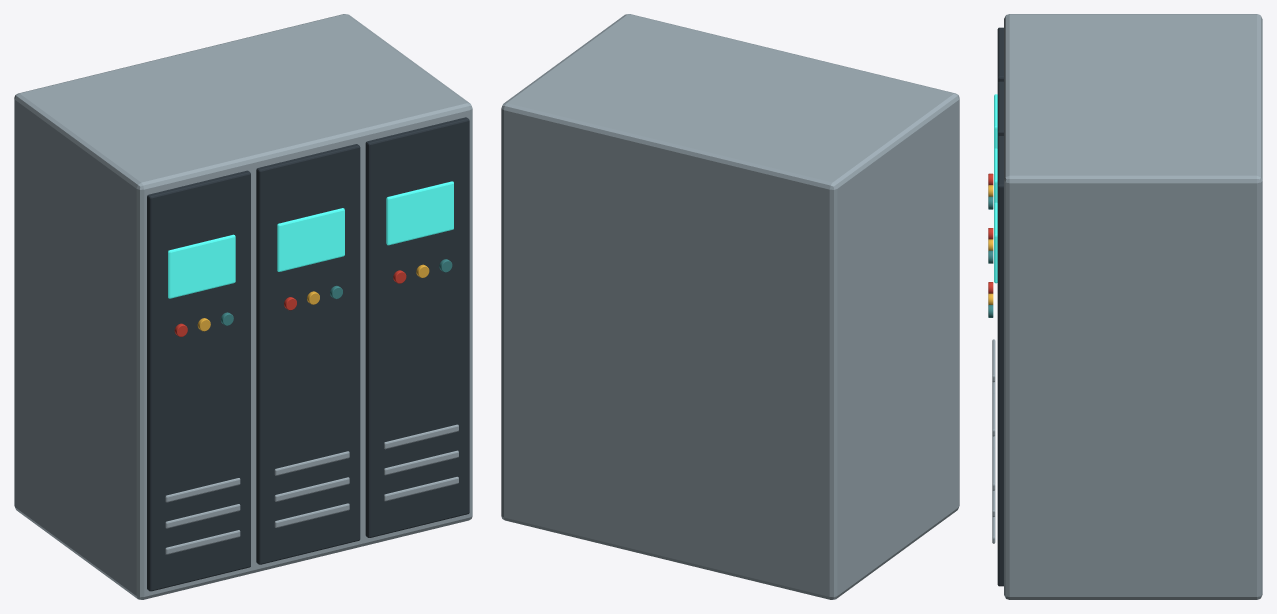
File: switchgear.glb
3 renders of one model, left to right at view 1: azimuth 30°, elevation 25°; view 2: azimuth 150°, elevation 25°; view 3: azimuth 270°, elevation 25°, orthographic.
Parts seen in each view (by area): view 1: Cabinet bank, Panel.001, Panel.002, Panel, Display, Display.001, Display.002, Vent, Vent.005; view 2: Cabinet bank; view 3: Cabinet bank, Panel.002, Panel.001, Panel.
Part boxes in pixels (x1,y1,x2,y2): Cabinet bank: (14,14,472,599); Panel.001: (256,144,360,564); Panel.002: (365,117,469,537); Panel: (147,170,250,591); Display: (168,234,235,298); Display.001: (277,208,344,271); Display.002: (386,181,453,245); Vent: (165,530,240,554); Vent.005: (274,451,349,475); Cabinet bank: (501,14,959,599); Cabinet bank: (1004,14,1262,599); Panel.002: (997,136,1003,586); Panel.001: (997,81,1003,136); Panel: (997,27,1003,82).
Bounding box in the file's own units: 1.75 × 2.08 × 1.22.
